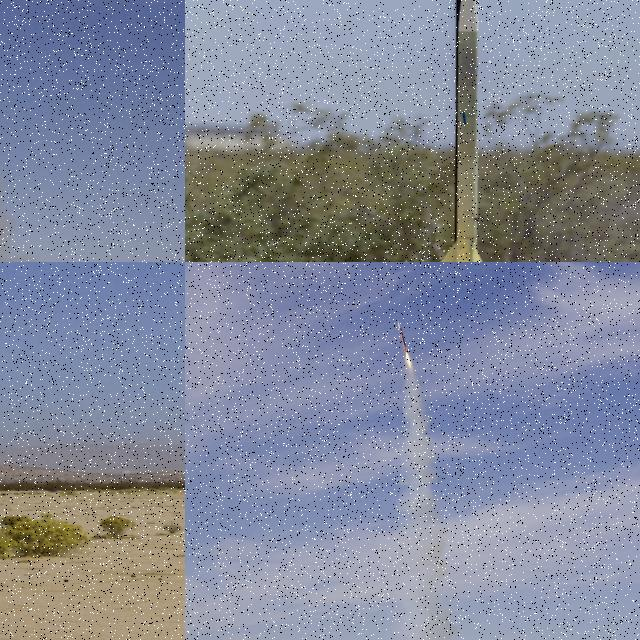Rocket: (434, 0, 485, 262), (398, 321, 410, 354)
